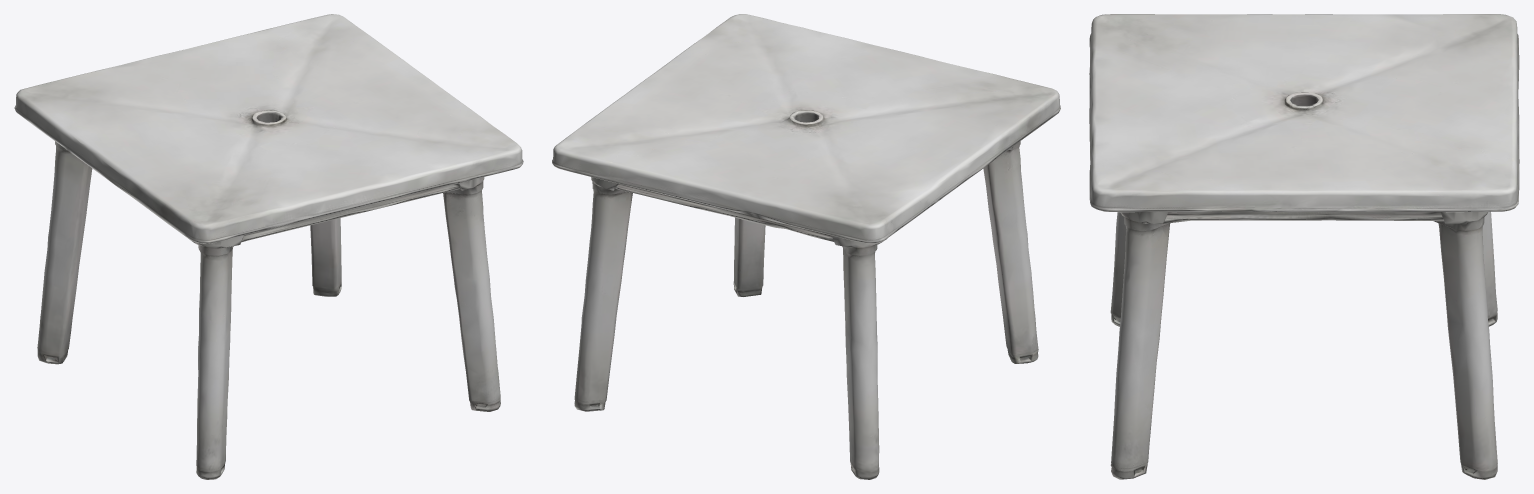
Rendered from table_plastic.glb.
3 views of the same model, side by side, from view 1: azimuth 30°, elevation 25°; view 2: azimuth 150°, elevation 25°; view 3: azimuth 270°, elevation 25° (orthographic). The views are drawn at different scales.
Visible parts, largest first — view 1: tripo_node_a4513e2f-6fc1-4ce6-b0f7-3168057f4b48; view 2: tripo_node_a4513e2f-6fc1-4ce6-b0f7-3168057f4b48; view 3: tripo_node_a4513e2f-6fc1-4ce6-b0f7-3168057f4b48.
Part boxes in pixels (x1,y1,x2,y2): tripo_node_a4513e2f-6fc1-4ce6-b0f7-3168057f4b48: [14, 14, 523, 479]; tripo_node_a4513e2f-6fc1-4ce6-b0f7-3168057f4b48: [552, 14, 1060, 479]; tripo_node_a4513e2f-6fc1-4ce6-b0f7-3168057f4b48: [1089, 14, 1519, 479].
Size of the model in its own units: 1 by 0.7646 by 0.9985.
Materials: 1 (1 with a texture image).
